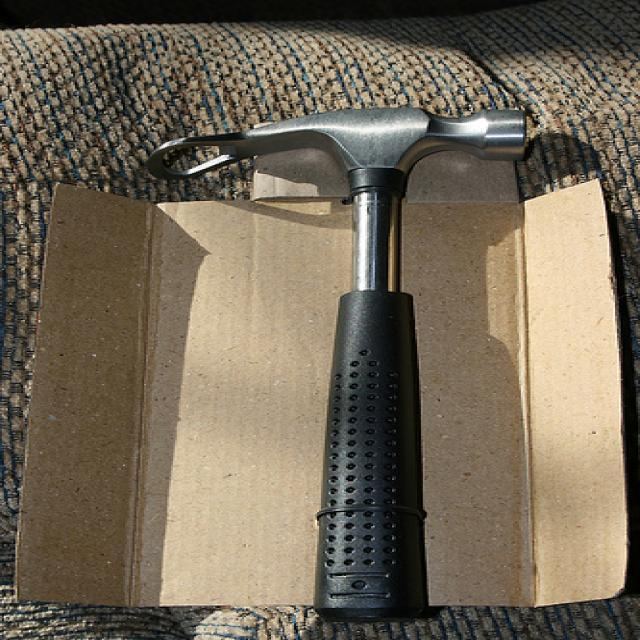hammer: (141, 94, 547, 626)
